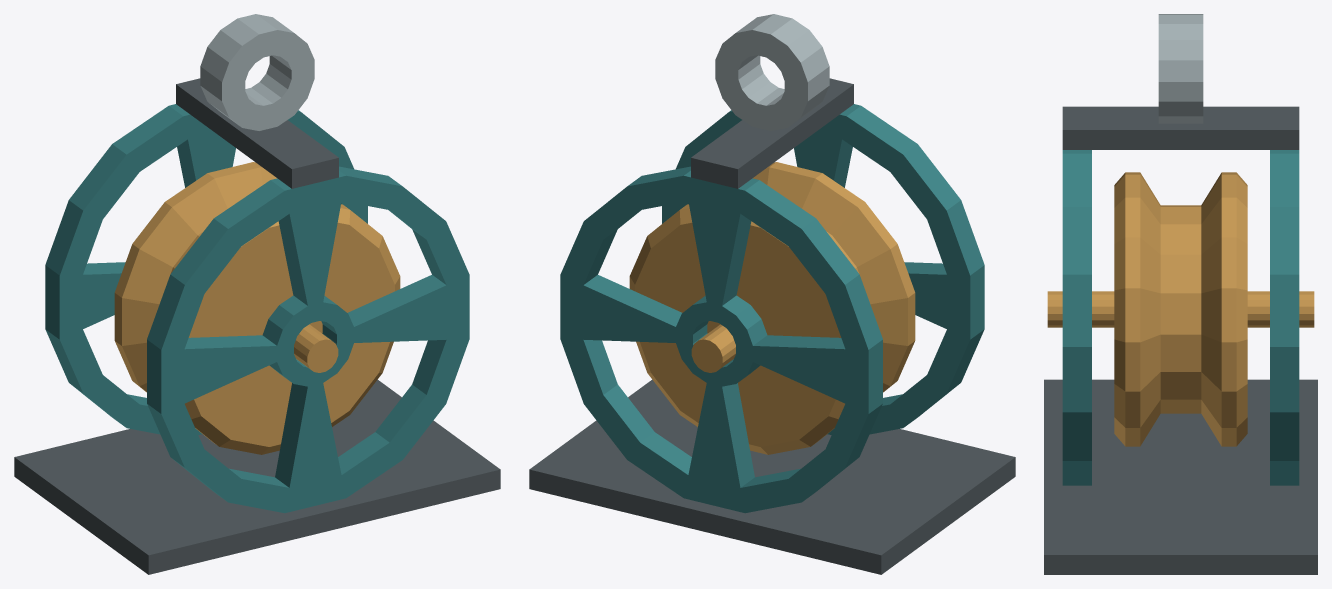
3 views of the same model, side by side, from view 1: azimuth 30°, elevation 25°; view 2: azimuth 150°, elevation 25°; view 3: azimuth 270°, elevation 25° (orthographic).
Visible parts, largest first — view 1: FrontWholeOpenCheekCage, CompleteLowerDisplayBase, ContinuousGroovedSheaveAndAxle, RearWholeOpenCheekCage, WholeOpenConnectionEye, CompleteUpperCrossbar; view 2: RearWholeOpenCheekCage, CompleteLowerDisplayBase, ContinuousGroovedSheaveAndAxle, FrontWholeOpenCheekCage, WholeOpenConnectionEye, CompleteUpperCrossbar; view 3: CompleteLowerDisplayBase, ContinuousGroovedSheaveAndAxle, FrontWholeOpenCheekCage, RearWholeOpenCheekCage, CompleteUpperCrossbar, WholeOpenConnectionEye.
Part boxes in pixels (x1,y1,x2,y2): FrontWholeOpenCheekCage: (147, 166, 469, 513); CompleteLowerDisplayBase: (14, 379, 500, 574); ContinuousGroovedSheaveAndAxle: (114, 162, 400, 454); RearWholeOpenCheekCage: (45, 104, 367, 434); WholeOpenConnectionEye: (200, 14, 314, 130); CompleteUpperCrossbar: (176, 78, 338, 188); RearWholeOpenCheekCage: (560, 166, 882, 513); CompleteLowerDisplayBase: (529, 379, 1015, 574); ContinuousGroovedSheaveAndAxle: (629, 162, 915, 454); FrontWholeOpenCheekCage: (662, 104, 984, 434); WholeOpenConnectionEye: (715, 14, 829, 130); CompleteUpperCrossbar: (691, 78, 853, 188); CompleteLowerDisplayBase: (1044, 379, 1317, 574); ContinuousGroovedSheaveAndAxle: (1047, 172, 1314, 446); FrontWholeOpenCheekCage: (1062, 150, 1091, 485); RearWholeOpenCheekCage: (1270, 150, 1299, 485); CompleteUpperCrossbar: (1062, 106, 1299, 149); WholeOpenConnectionEye: (1158, 14, 1203, 123).
Bounding box in the file's own units: 1.12 × 1.39 × 0.74.
